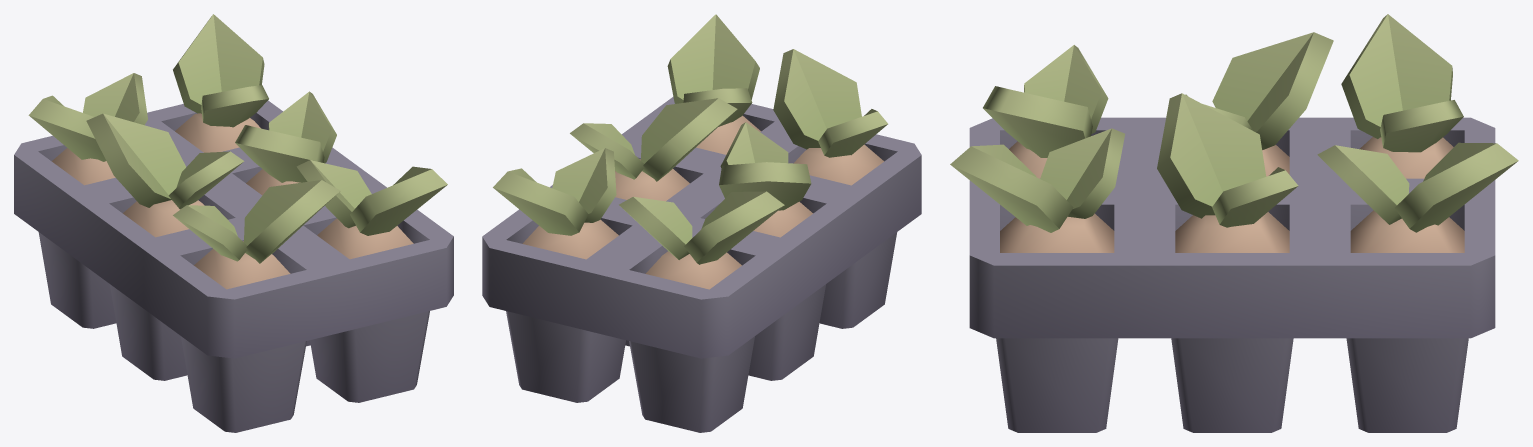
Rendered from seedling-tray-plants.glb.
3 renders of one model, left to right at view 1: azimuth 30°, elevation 25°; view 2: azimuth 150°, elevation 25°; view 3: azimuth 270°, elevation 25°, orthographic. The views are drawn at different scales.
Parts seen in each view (by area): view 1: seedling-tray-plants; view 2: seedling-tray-plants; view 3: seedling-tray-plants.
Boxes of the visible parts, bbox=[...] form: seedling-tray-plants: bbox=[14, 14, 453, 432]; seedling-tray-plants: bbox=[482, 14, 921, 432]; seedling-tray-plants: bbox=[950, 14, 1518, 432].
Size of the model in its own units: 0.2914 by 0.2404 by 0.4359.
